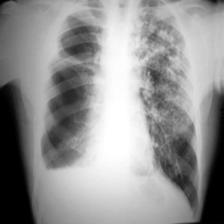tuberculosis: (31, 0, 204, 219)
